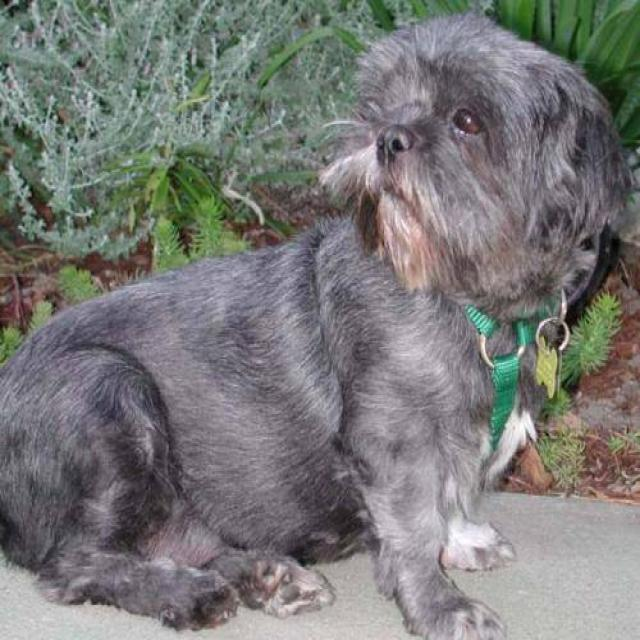dog: (0, 9, 639, 638)
